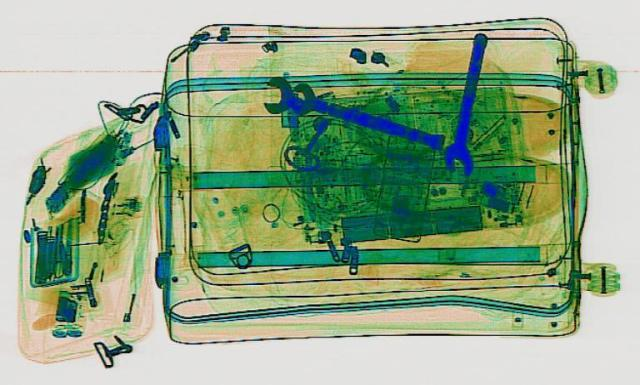Wrench: (272, 79, 458, 154), (439, 32, 495, 173)
